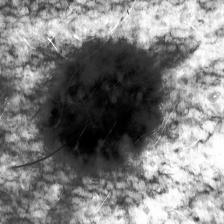Benign Marking or Mole: (52, 44, 160, 155)
